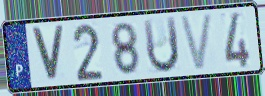2: (71, 20, 106, 83)
4: (223, 10, 252, 70)
8: (108, 21, 142, 76)
U: (141, 14, 181, 76)
V: (178, 11, 216, 74), (29, 25, 66, 84)
